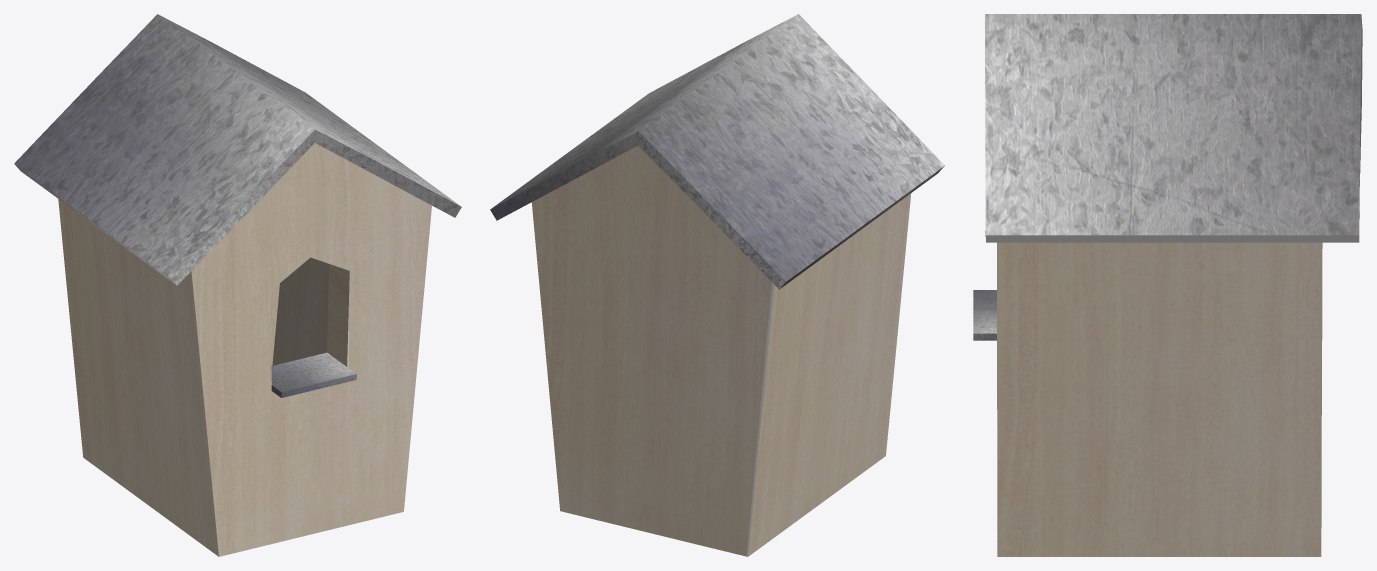
3 views of the same model, side by side, from view 1: azimuth 30°, elevation 25°; view 2: azimuth 150°, elevation 25°; view 3: azimuth 270°, elevation 25° (orthographic). The views are drawn at different scales.
Visible parts, largest first — view 1: polySurface4, polySurface2, pCube3; view 2: polySurface4, polySurface2; view 3: polySurface4, polySurface2, pCube3.
Boxes of the visible parts, <box> form: polySurface4: <box>58,143,431,556</box>; polySurface2: <box>14,14,461,285</box>; pCube3: <box>271,352,356,397</box>; polySurface4: <box>531,146,911,556</box>; polySurface2: <box>490,14,944,289</box>; polySurface4: <box>997,242,1322,556</box>; polySurface2: <box>985,14,1362,242</box>; pCube3: <box>973,290,996,340</box>.
Size of the model in its own units: 6.12 by 8.2 by 5.93.
Materials: 3 (3 with a texture image).
